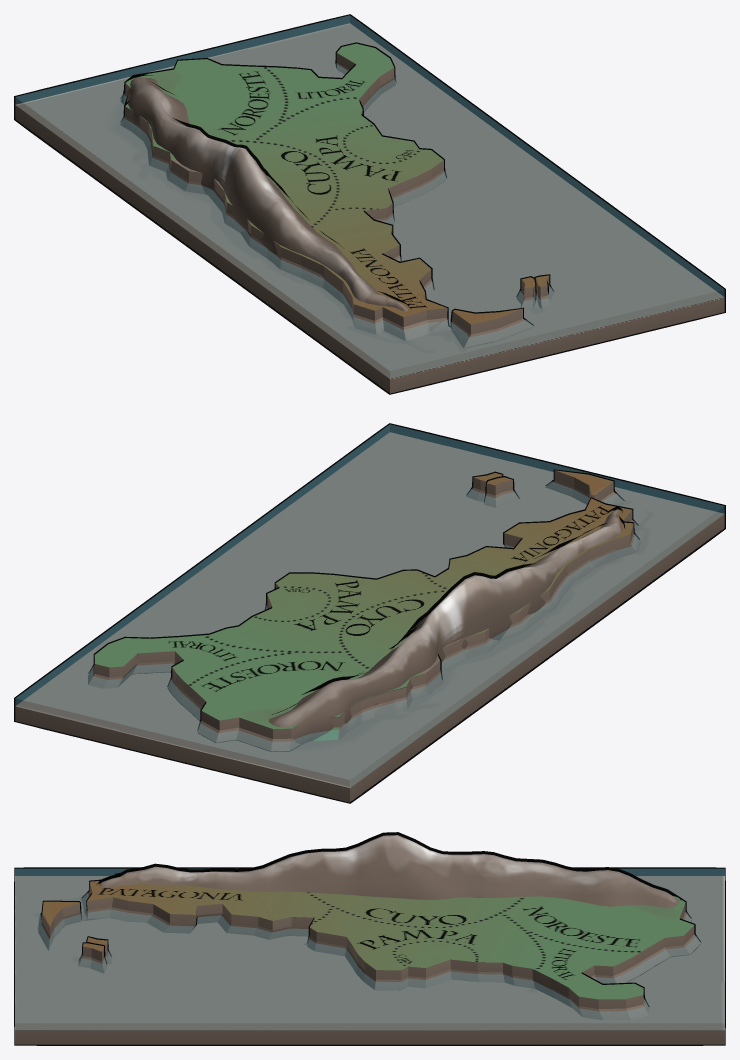
File: Plano version 2b.fbx
The picture shows the model from 3 angles, top to bottom: view 1: azimuth 30°, elevation 25°; view 2: azimuth 150°, elevation 25°; view 3: azimuth 270°, elevation 25°; orthographic projection. The views are drawn at different scales.
Visible parts, largest first — view 1: Plane, Plane.001; view 2: Plane, Plane.001; view 3: Plane, Plane.001.
Part boxes in pixels (x1,y1,x2,y2): Plane: (14,14,725,394); Plane.001: (122,74,408,313); Plane: (14,423,725,803); Plane.001: (268,506,625,744); Plane: (14,867,725,1045); Plane.001: (96,832,681,908).
Size of the model in its own units: 853 by 210 by 1648.
4 materials, 2 textured.
